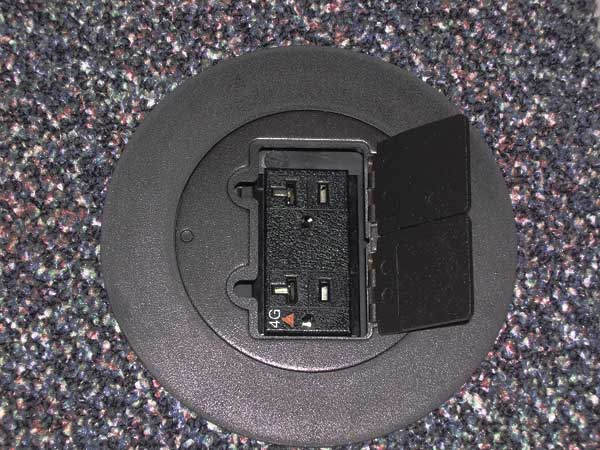outlet: (267, 270, 339, 332), (268, 173, 336, 231)
